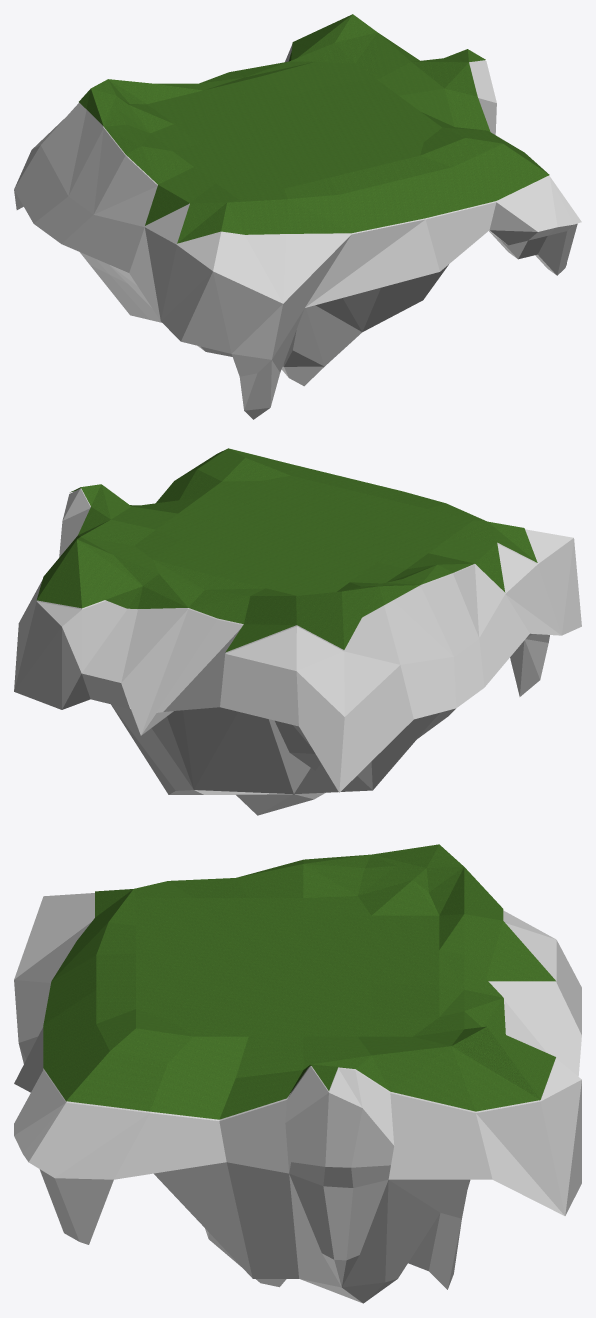
File: island.fbx
3 renders of one model, top to bottom at view 1: azimuth 30°, elevation 25°; view 2: azimuth 150°, elevation 25°; view 3: azimuth 270°, elevation 25°, orthographic. The views are drawn at different scales.
Visible parts, largest first — view 1: Cube.001, Cube; view 2: Cube, Cube.001; view 3: Cube.001, Cube.
Part boxes in pixels (<box>): Cube.001: <box>79,14,549,243</box>; Cube: <box>14,44,581,419</box>; Cube: <box>14,488,581,815</box>; Cube.001: <box>37,448,537,652</box>; Cube.001: <box>43,844,555,1119</box>; Cube: <box>14,893,581,1303</box>.
Size of the model in its own units: 861 by 551 by 806.
